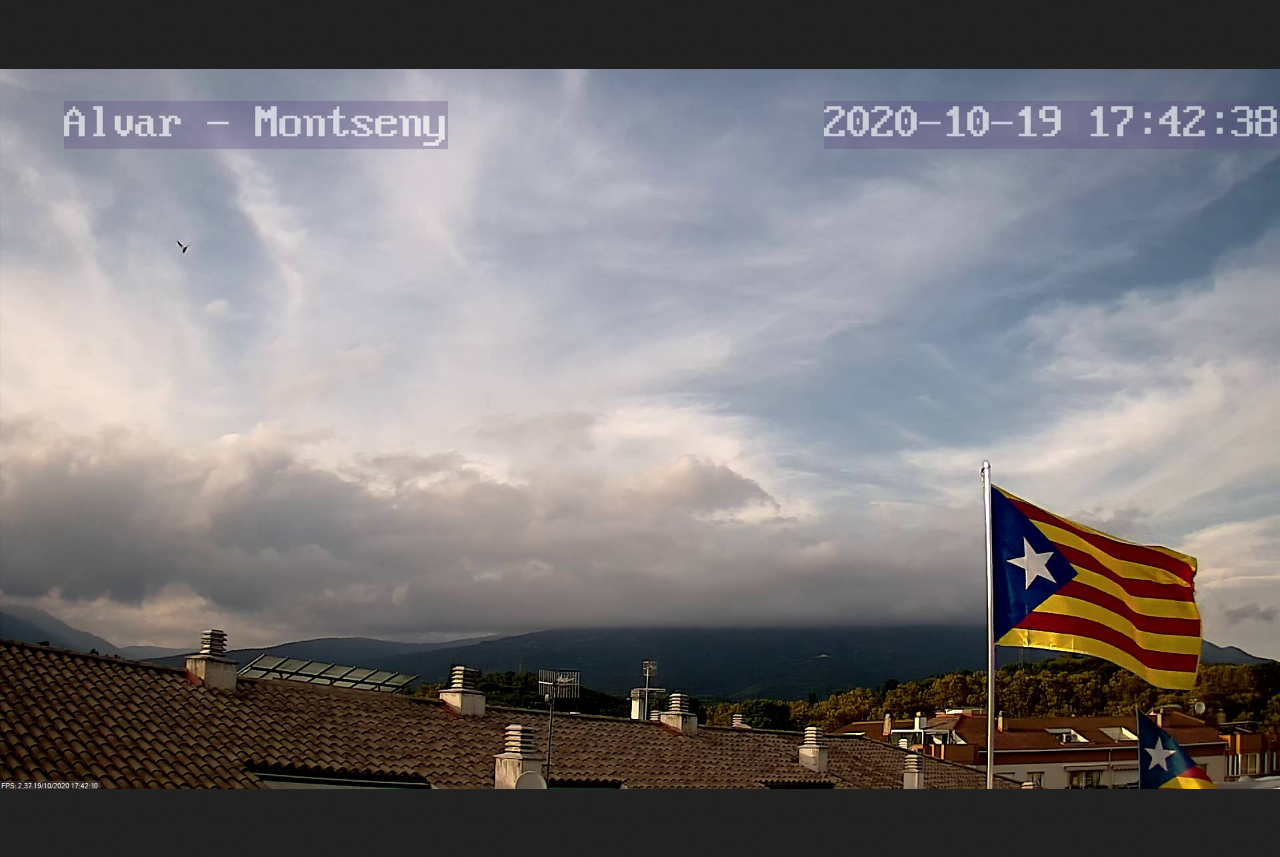yes: (970, 472, 1207, 700)
